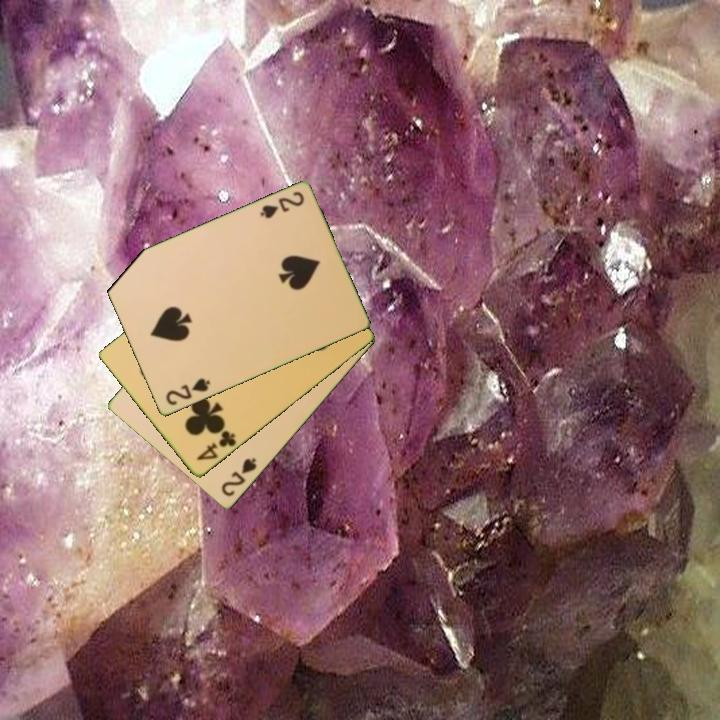2s: (218, 455, 260, 500), (162, 375, 213, 409), (256, 188, 307, 222)
4c: (193, 427, 239, 464)
